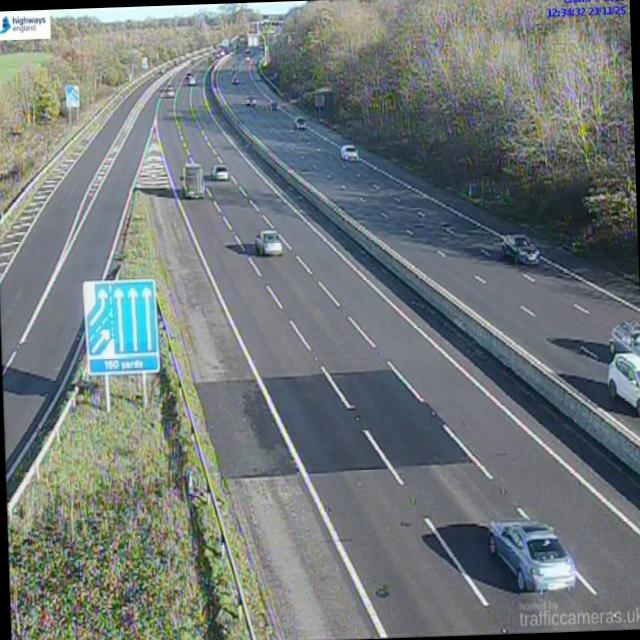foliage: (268, 0, 638, 282)
